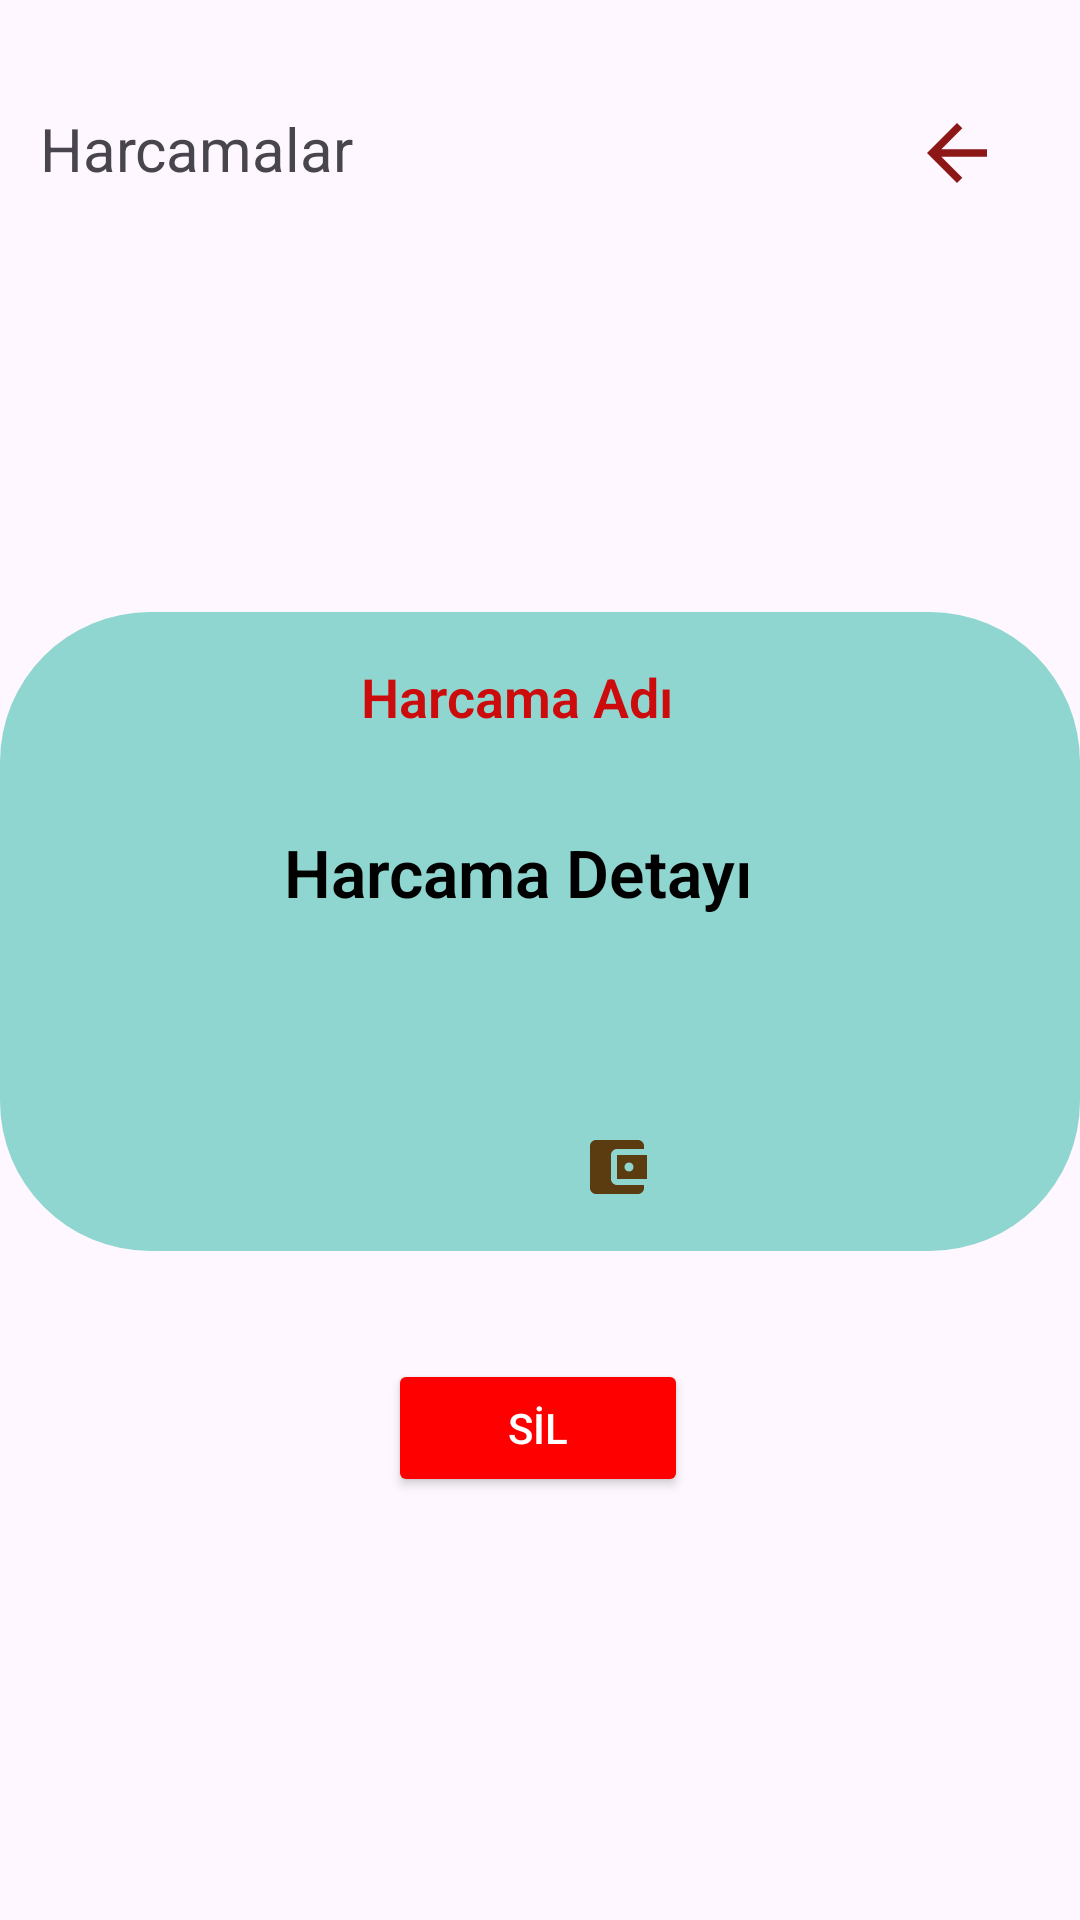

Named icons in this screenshot (1080px×1920px) and their centers, point (x, y):
back: point (957, 153)
